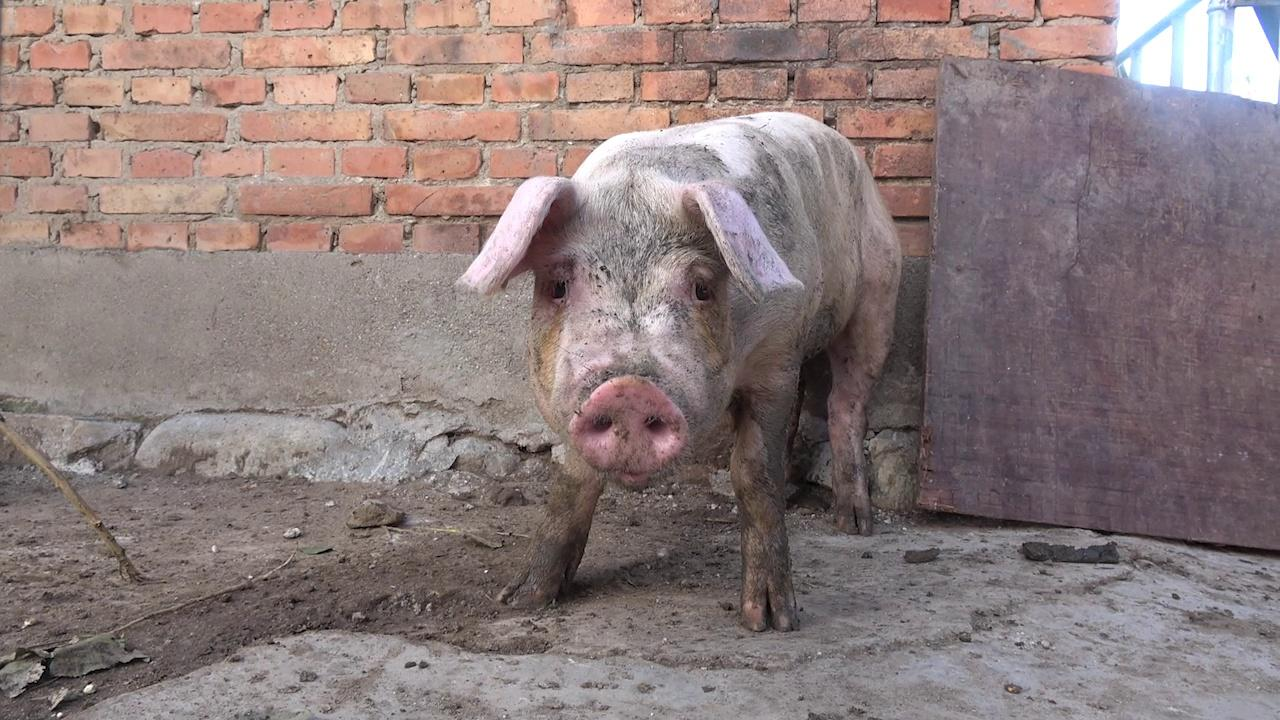Face: (453, 170, 822, 490)
